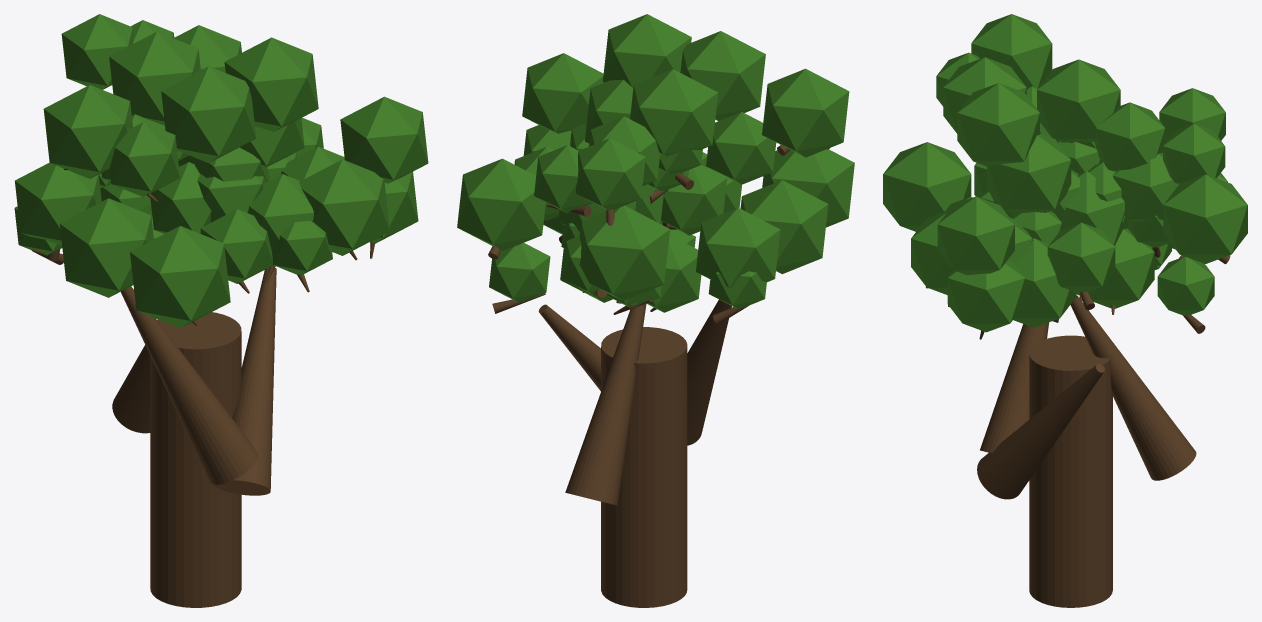
The model's file is lowpoly-agac.fbx.
3 renders of one model, left to right at view 1: azimuth 30°, elevation 25°; view 2: azimuth 150°, elevation 25°; view 3: azimuth 270°, elevation 25°, orthographic. The views are drawn at different scales.
Visible parts, largest first — view 1: Cylinder, Icosphere.034, Cone.032, Icosphere.031, Icosphere.033, Cone.016, Icosphere.044, Icosphere.019, Icosphere.039, Icosphere.029, Icosphere.011, Icosphere.043 (+16 smaller); view 2: Cylinder, Cone, Icosphere.002, Icosphere.010, Icosphere.044, Icosphere.011, Icosphere.043, Icosphere.031, Icosphere.033, Icosphere.029, Icosphere.039, Icosphere.013 (+16 smaller); view 3: Cylinder, Cone, Icosphere.010, Cone.016, Icosphere.034, Icosphere.039, Icosphere.011, Icosphere.029, Icosphere.040, Icosphere.024, Icosphere.044, Icosphere.023 (+17 smaller).
Boxes of the visible parts, x1,y1,x2,y2 form: Cylinder: (150,312,241,607); Icosphere.034: (130,226,230,328); Cone.032: (121,286,258,484); Icosphere.031: (161,66,256,163); Icosphere.033: (59,198,153,297); Cone.016: (214,267,276,495); Icosphere.044: (43,85,132,178); Icosphere.019: (299,159,389,255); Icosphere.039: (224,37,318,131); Icosphere.029: (340,96,428,183); Icosphere.011: (109,32,200,124); Icosphere.043: (15,162,101,245); Cylinder: (601,327,687,607); Cone: (565,304,646,505); Icosphere.002: (579,205,670,301); Icosphere.010: (457,158,545,251); Icosphere.044: (762,68,849,157); Icosphere.011: (630,69,718,156); Icosphere.043: (696,207,780,287); Icosphere.031: (680,31,765,121); Icosphere.033: (740,180,828,274); Icosphere.029: (522,53,603,133); Icosphere.039: (603,14,691,87); Icosphere.013: (576,138,645,210); Cylinder: (1029,335,1112,607); Cone: (1070,295,1196,480); Icosphere.010: (1163,174,1247,263); Cone.016: (977,364,1104,499); Icosphere.034: (883,142,971,231); Icosphere.039: (957,83,1039,166); Icosphere.011: (1037,59,1120,142); Icosphere.029: (937,196,1014,275); Icosphere.040: (987,133,1071,214); Icosphere.024: (947,260,1024,332); Icosphere.044: (971,14,1052,88); Icosphere.023: (1047,222,1115,293).
Size of the model in its own units: 358 by 552 by 349.
